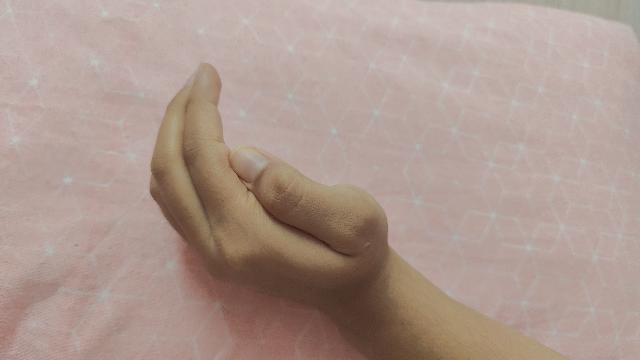sarpsheesh: (148, 63, 569, 360)
